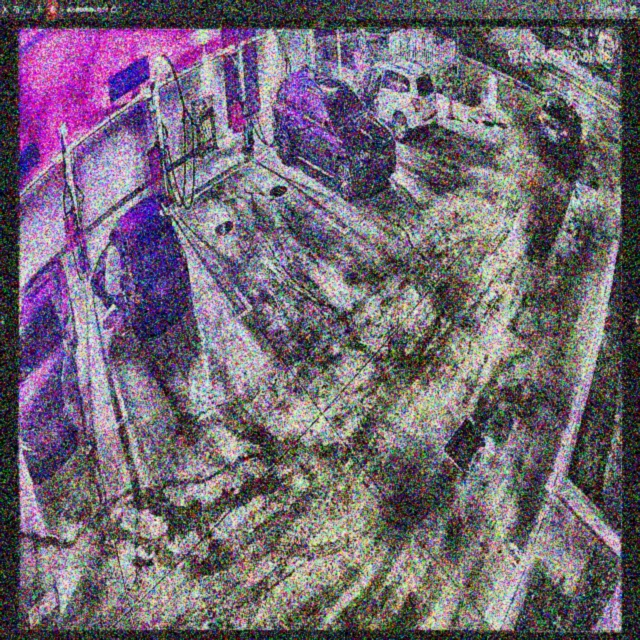Car: (272, 66, 395, 197), (94, 191, 189, 339), (344, 63, 439, 145)
